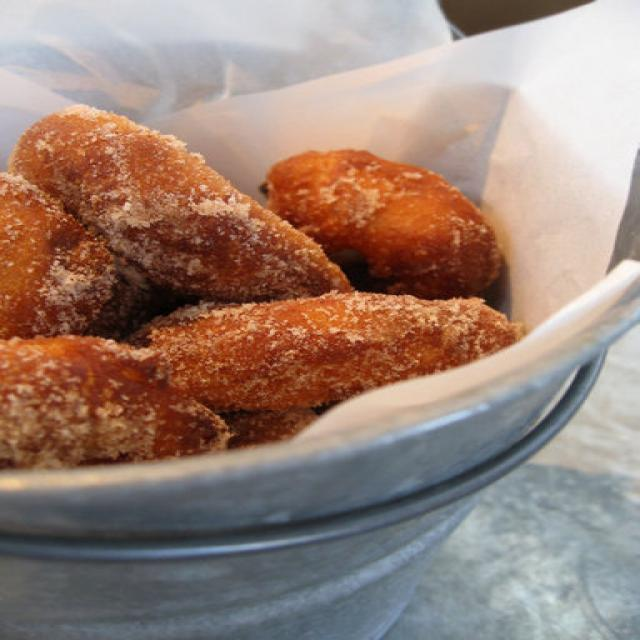Donuts: (2, 104, 556, 539)
